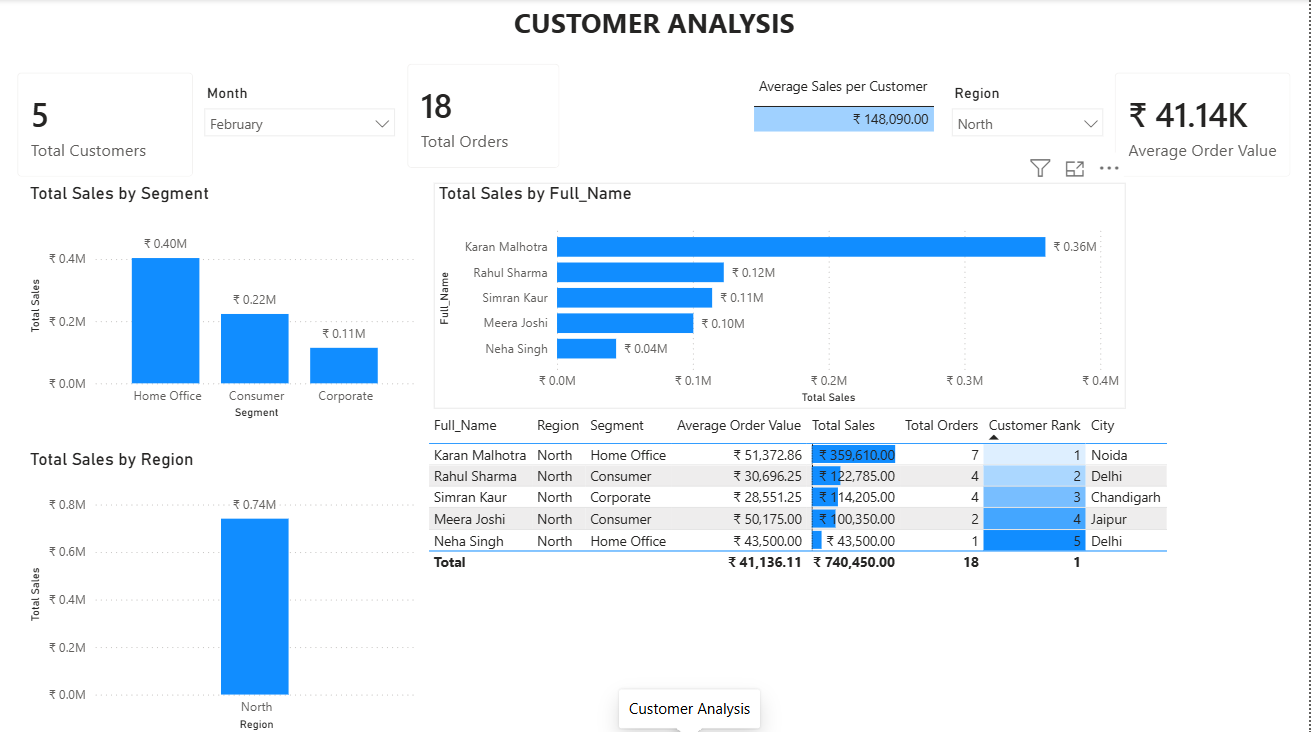

The dashboard page shown, as its layout file describes it:
{"tool":"powerbi","page":{"name":"Customer Analysis","canvas":[1280,720],"ordinal":4},"visuals":[{"type":"textbox","box":[0,0,1280.3,55],"z":0},{"type":"cardVisual","fields":{"Data":["FactSales.Total Customers"]},"box":[0,55,206.7,137],"z":1000},{"type":"cardVisual","fields":{"Data":["FactSales.Average Order Value"]},"box":[1073.6,55,206.7,137],"z":2000},{"type":"cardVisual","fields":{"Data":["FactSales.Total Orders"]},"box":[381.5,46.5,183.4,137],"z":3000},{"type":"tableEx","fields":{"Values":["FactSales.Average Sales per Customer"]},"box":[731.3,67.3,226.2,112.5],"z":4000},{"type":"slicer","fields":{"Values":["DimDate.Month"]},"box":[189.5,78.3,206.7,89.3],"z":5000},{"type":"slicer","fields":{"Values":["DimCustomer.Region"]},"box":[920.8,78.3,168.8,89.3],"z":6000},{"type":"columnChart","fields":{"Category":["DimCustomer.Segment"],"Y":["FactSales.Total Sales"]},"box":[24.5,179.8,388.9,236],"z":8000},{"type":"columnChart","fields":{"Category":["DimCustomer.Region"],"Y":["FactSales.Total Sales"]},"box":[24.5,440.2,388.9,280],"z":9000},{"type":"barChart","fields":{"Category":["DimCustomer.Full_Name"],"Y":["FactSales.Total Sales"]},"box":[424.3,179.8,676.2,221.3],"z":10000},{"type":"tableEx","fields":{"Values":["DimCustomer.Full_Name","DimCustomer.Region","DimCustomer.Segment","FactSales.Average Order Value","FactSales.Total Sales","FactSales.Total Orders","FactSales.Customer Rank","DimCustomer.City"]},"box":[413.3,401.1,763,319.2],"z":11000}]}

Visuals, with their boxes in screenshot pixels (x1, y1, x2, y2), scaled from the page's 1280x720 canvas onto the 1311x732 screenshot:
textbox: pyautogui.locateOnScreen(0, 0, 1310, 56)
cardVisual - FactSales.Total Customers: pyautogui.locateOnScreen(0, 56, 212, 195)
cardVisual - FactSales.Average Order Value: pyautogui.locateOnScreen(1100, 56, 1310, 195)
cardVisual - FactSales.Total Orders: pyautogui.locateOnScreen(391, 47, 579, 187)
tableEx - FactSales.Average Sales per Customer: pyautogui.locateOnScreen(749, 68, 981, 183)
slicer - DimDate.Month: pyautogui.locateOnScreen(194, 80, 406, 170)
slicer - DimCustomer.Region: pyautogui.locateOnScreen(943, 80, 1116, 170)
columnChart - DimCustomer.Segment x FactSales.Total Sales: pyautogui.locateOnScreen(25, 183, 423, 423)
columnChart - DimCustomer.Region x FactSales.Total Sales: pyautogui.locateOnScreen(25, 448, 423, 731)
barChart - DimCustomer.Full_Name x FactSales.Total Sales: pyautogui.locateOnScreen(435, 183, 1127, 408)
tableEx - DimCustomer.Full_Name x DimCustomer.Region: pyautogui.locateOnScreen(423, 408, 1205, 731)
